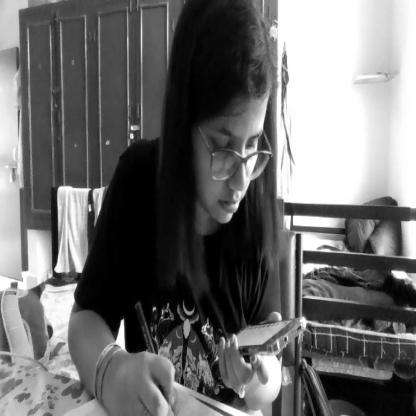Distracted: (171, 0, 280, 234)
